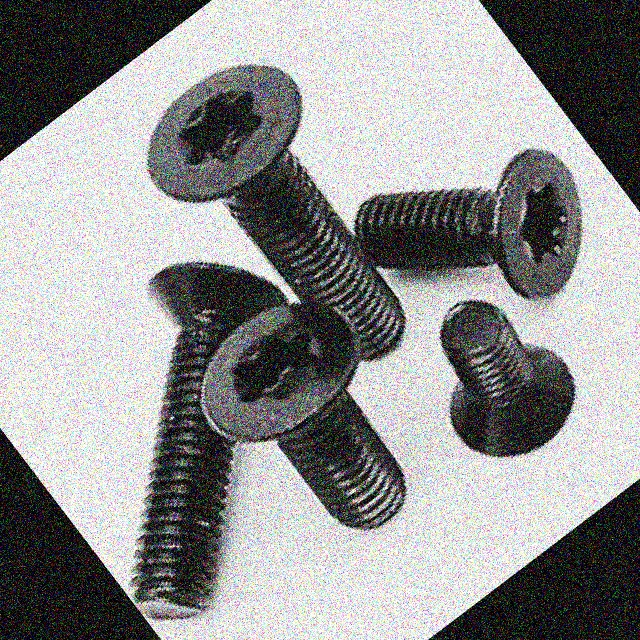torx: (174, 268, 383, 466), (117, 31, 324, 224), (448, 131, 627, 313)
